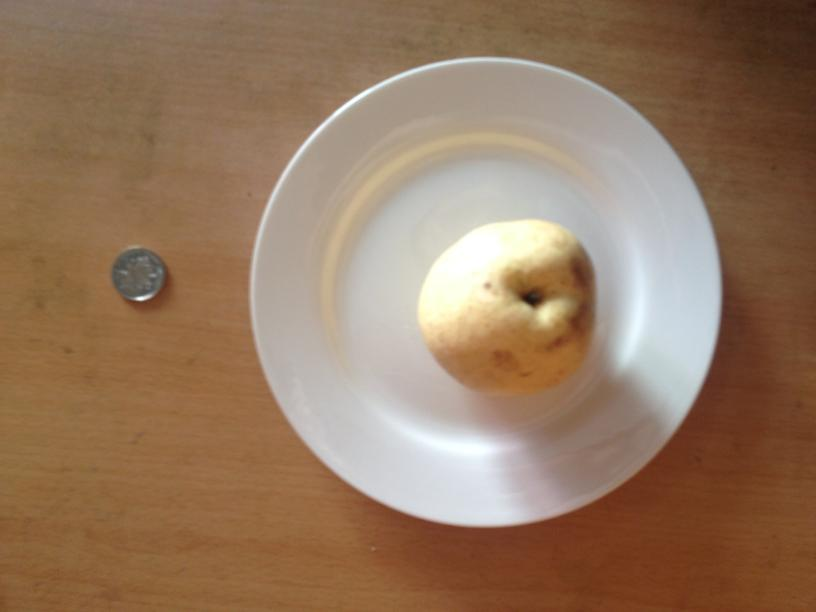coin: (111, 245, 165, 305)
pear: (422, 213, 597, 392)
